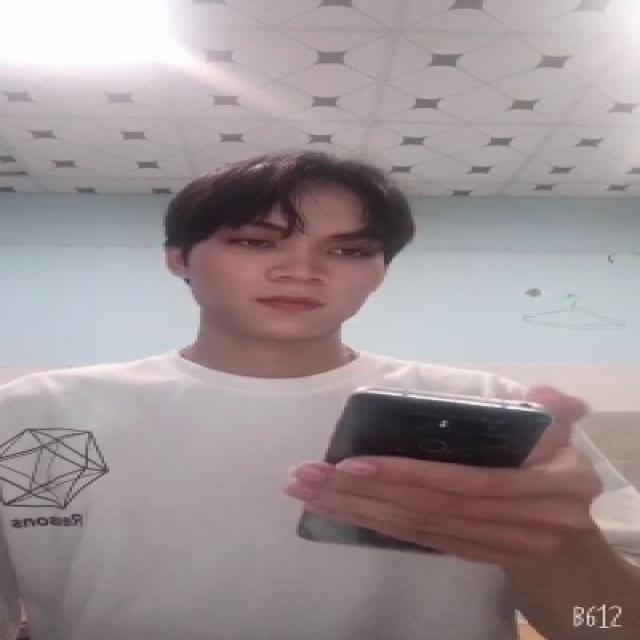Phone: (293, 386, 551, 558)
